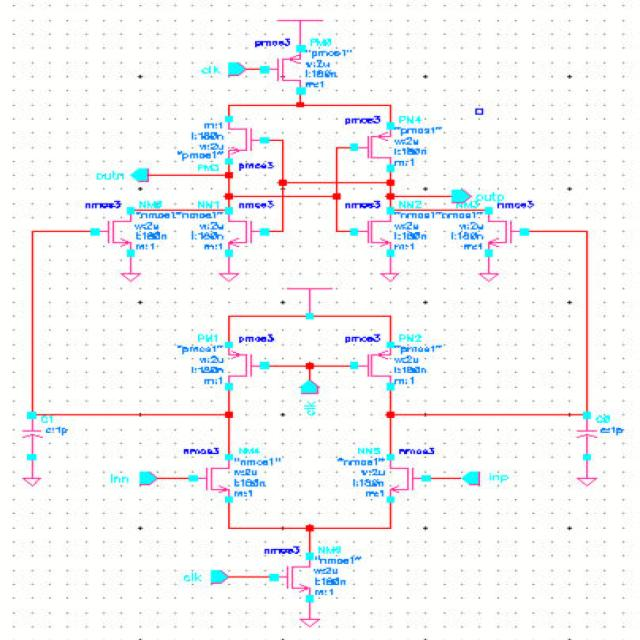cap: (569, 410, 601, 465), (19, 409, 44, 464)
gnd: (470, 245, 504, 288), (376, 248, 408, 290), (114, 249, 147, 285), (208, 251, 244, 284)
nmos: (180, 443, 237, 505), (260, 545, 317, 604), (385, 448, 440, 507), (342, 200, 396, 259), (81, 201, 137, 256), (482, 201, 536, 257), (223, 202, 273, 258)
pmos: (221, 332, 279, 393), (342, 334, 396, 392), (222, 114, 276, 171), (342, 117, 396, 173), (252, 39, 305, 95)
vdd: (281, 282, 339, 323), (273, 16, 327, 38)
